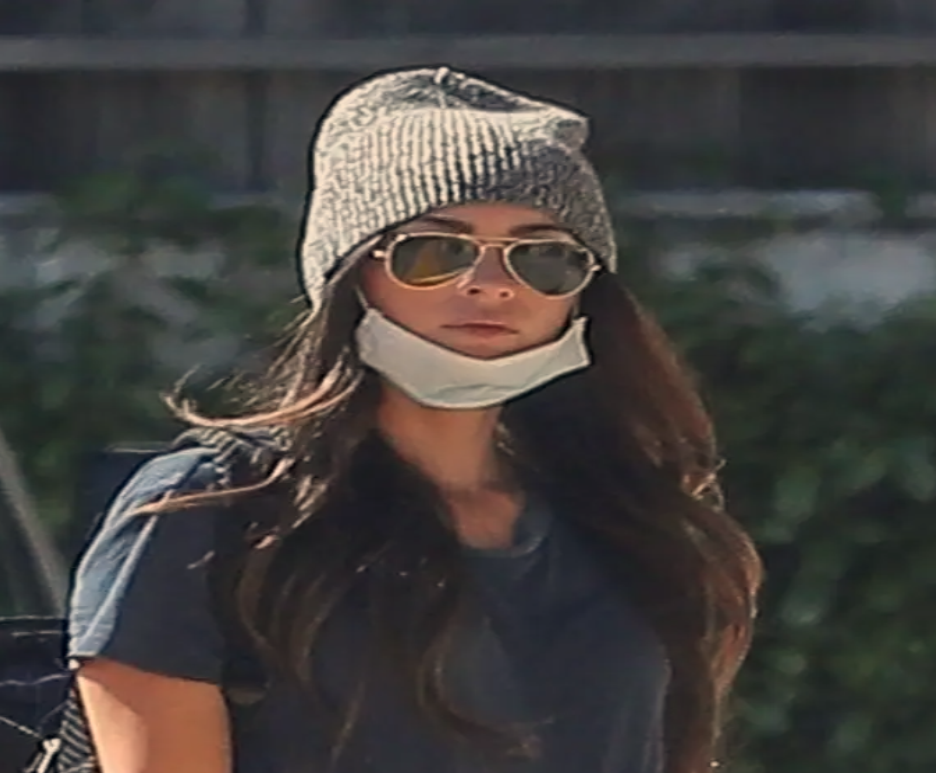mask_weared_incorrect: (300, 70, 615, 416)
